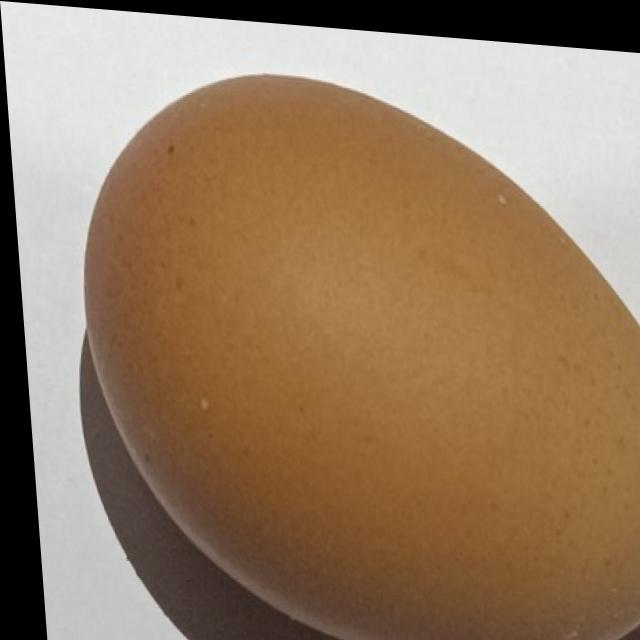fresh: (63, 59, 640, 640)
